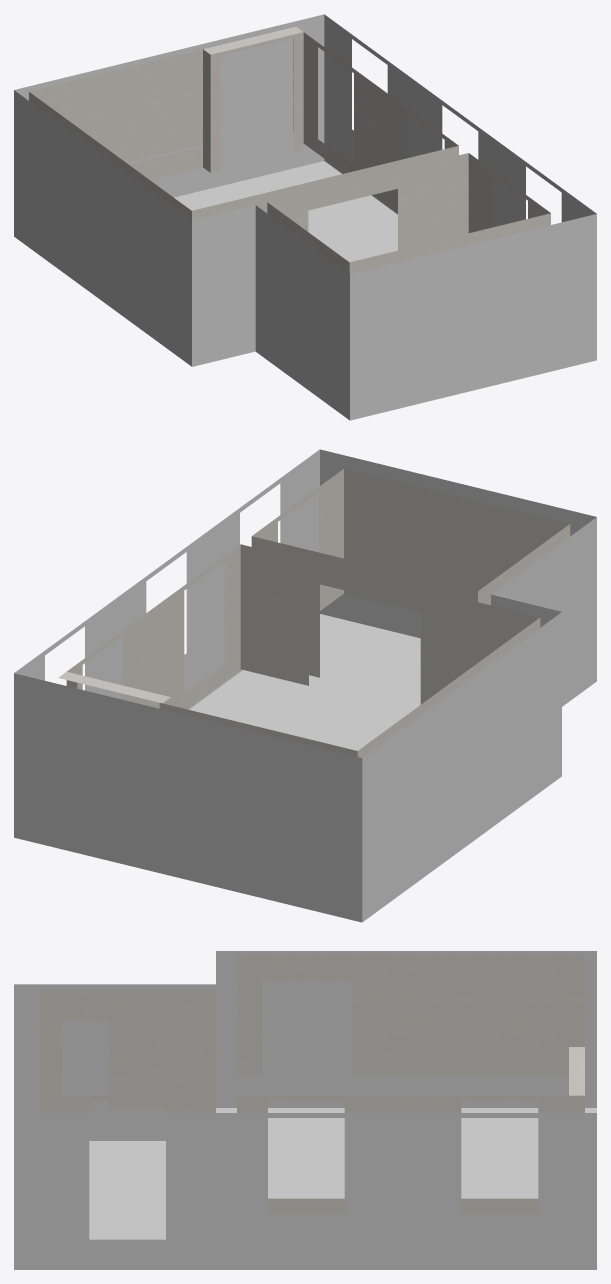
The model's file is Pareti.glb.
3 renders of one model, top to bottom at view 1: azimuth 30°, elevation 25°; view 2: azimuth 150°, elevation 25°; view 3: azimuth 270°, elevation 25°, orthographic. The views are drawn at different scales.
Parts seen in each view (by area): view 1: Walls outside, Walls inside; view 2: Walls outside, Walls inside; view 3: Walls outside, Walls inside.
Part boxes in pixels (x1,y1,x2,y2): Walls outside: (14,14,596,420); Walls inside: (29,26,550,273); Walls outside: (14,449,596,922); Walls inside: (58,468,570,757); Walls outside: (14,951,596,1269); Walls inside: (40,956,584,1214).
Bounding box in the file's own units: 9.7 × 4.38 × 14.76.
Materials: 2 (1 with a texture image).
